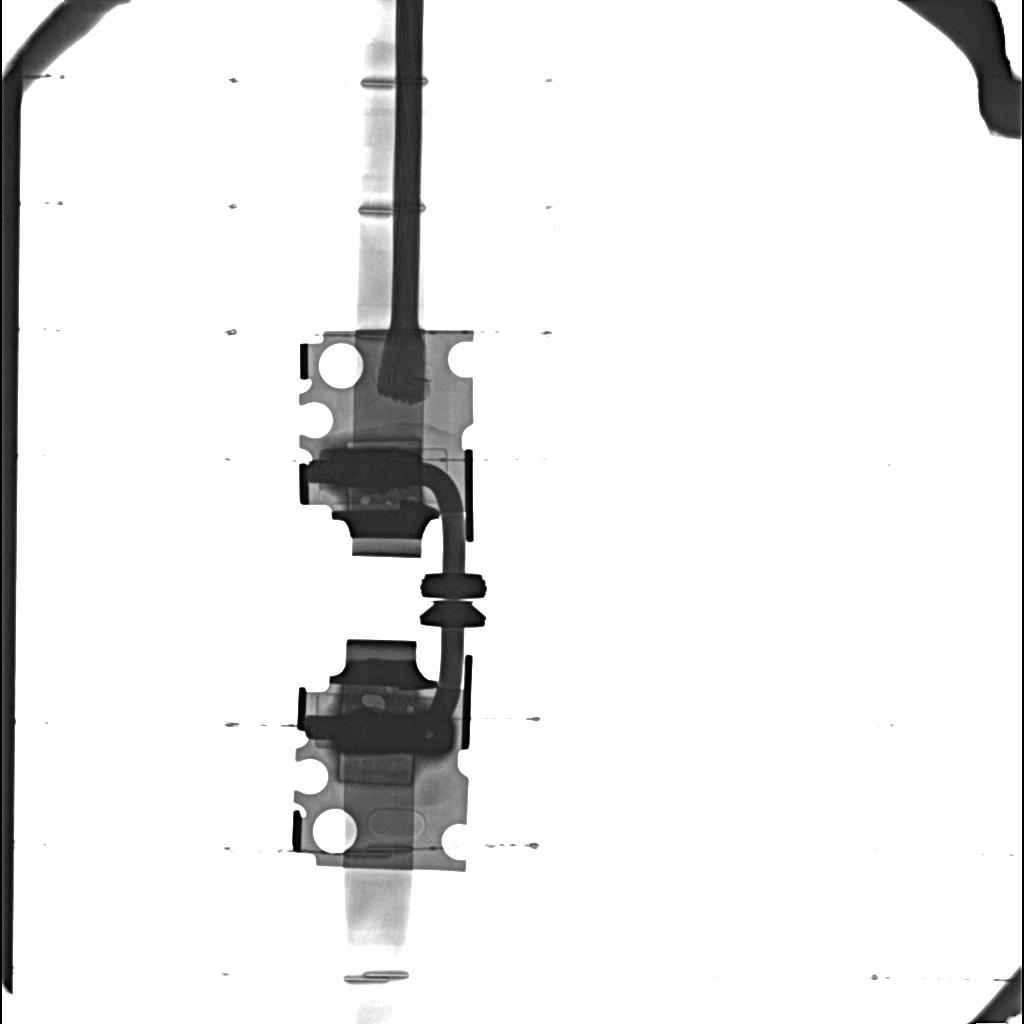PX: (337, 754, 415, 786), (344, 438, 421, 452)
QP: (362, 692, 386, 709), (360, 495, 370, 504)
SX: (335, 710, 455, 754), (324, 448, 421, 487)
